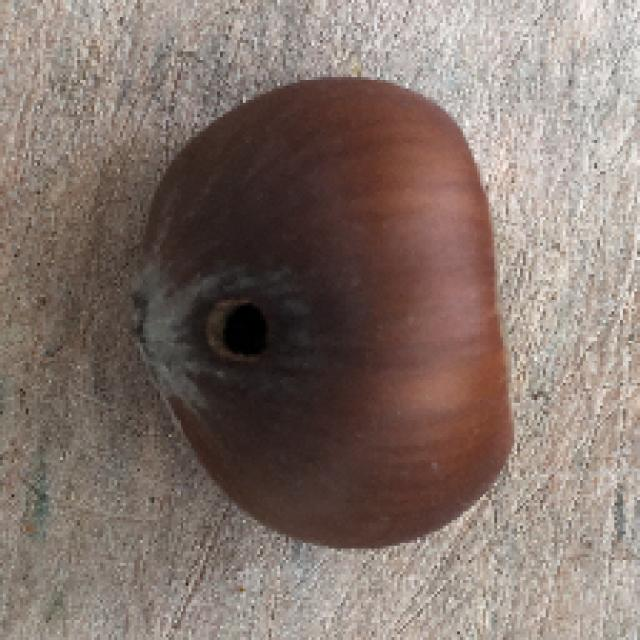DamagedHazelnut: (133, 76, 519, 553)
